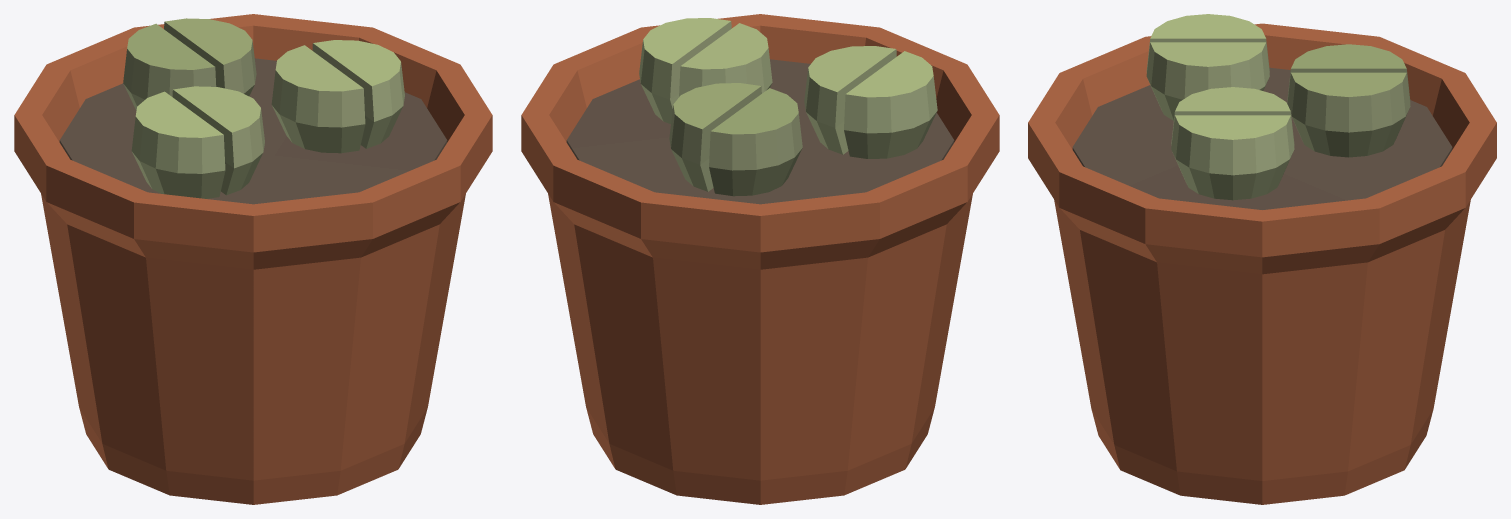
File: new-lesliei.glb
The picture shows the model from 3 angles, left to right: view 1: azimuth 30°, elevation 25°; view 2: azimuth 150°, elevation 25°; view 3: azimuth 270°, elevation 25°; orthographic projection.
Visible parts, largest first — view 1: new-lesliei/review-terra-vessel, new-lesliei/review-rooted-soil, new-lesliei/fused-leaf-half-real-cleft-003, new-lesliei/fused-leaf-half-real-cleft-001, new-lesliei/fused-leaf-half-real-cleft-002, new-lesliei/fused-leaf-half-real-cleft-004, new-lesliei/fused-leaf-half-real-cleft-005, new-lesliei/fused-leaf-half-real-cleft-006; view 2: new-lesliei/review-terra-vessel, new-lesliei/review-rooted-soil, new-lesliei/fused-leaf-half-real-cleft-005, new-lesliei/fused-leaf-half-real-cleft-001, new-lesliei/fused-leaf-half-real-cleft-006, new-lesliei/fused-leaf-half-real-cleft-002, new-lesliei/fused-leaf-half-real-cleft-004, new-lesliei/fused-leaf-half-real-cleft-003; view 3: new-lesliei/review-terra-vessel, new-lesliei/review-rooted-soil, new-lesliei/fused-leaf-half-real-cleft-006, new-lesliei/fused-leaf-half-real-cleft-004, new-lesliei/fused-leaf-half-real-cleft-002, new-lesliei/fused-leaf-half-real-cleft-003, new-lesliei/fused-leaf-half-real-cleft-001, new-lesliei/fused-leaf-half-real-cleft-005.
Boxes of the visible parts, x1=… form: new-lesliei/review-terra-vessel: x1=14, y1=14, x2=492, y2=504; new-lesliei/review-rooted-soil: x1=59, y1=58, x2=447, y2=204; new-lesliei/fused-leaf-half-real-cleft-003: x1=271, y1=45, x2=365, y2=153; new-lesliei/fused-leaf-half-real-cleft-001: x1=131, y1=91, x2=225, y2=198; new-lesliei/fused-leaf-half-real-cleft-002: x1=172, y1=86, x2=264, y2=195; new-lesliei/fused-leaf-half-real-cleft-004: x1=312, y1=40, x2=404, y2=148; new-lesliei/fused-leaf-half-real-cleft-005: x1=123, y1=23, x2=216, y2=110; new-lesliei/fused-leaf-half-real-cleft-006: x1=164, y1=18, x2=256, y2=96; new-lesliei/review-terra-vessel: x1=521, y1=14, x2=999, y2=504; new-lesliei/review-rooted-soil: x1=566, y1=59, x2=954, y2=204; new-lesliei/fused-leaf-half-real-cleft-005: x1=709, y1=88, x2=802, y2=196; new-lesliei/fused-leaf-half-real-cleft-001: x1=844, y1=51, x2=937, y2=158; new-lesliei/fused-leaf-half-real-cleft-006: x1=669, y1=83, x2=761, y2=191; new-lesliei/fused-leaf-half-real-cleft-002: x1=804, y1=46, x2=896, y2=154; new-lesliei/fused-leaf-half-real-cleft-004: x1=639, y1=18, x2=731, y2=123; new-lesliei/fused-leaf-half-real-cleft-003: x1=679, y1=23, x2=772, y2=96; new-lesliei/review-terra-vessel: x1=1028, y1=23, x2=1496, y2=504; new-lesliei/review-rooted-soil: x1=1072, y1=67, x2=1452, y2=209; new-lesliei/fused-leaf-half-real-cleft-006: x1=1287, y1=72, x2=1410, y2=157; new-lesliei/fused-leaf-half-real-cleft-004: x1=1171, y1=115, x2=1294, y2=200; new-lesliei/fused-leaf-half-real-cleft-002: x1=1146, y1=42, x2=1269, y2=120; new-lesliei/fused-leaf-half-real-cleft-003: x1=1171, y1=87, x2=1294, y2=145; new-lesliei/fused-leaf-half-real-cleft-001: x1=1146, y1=14, x2=1269, y2=72; new-lesliei/fused-leaf-half-real-cleft-005: x1=1287, y1=44, x2=1410, y2=102.
Bounding box in the file's own units: 0.19 × 0.159 × 0.19.
Materials: 4 (4 with a texture image).
